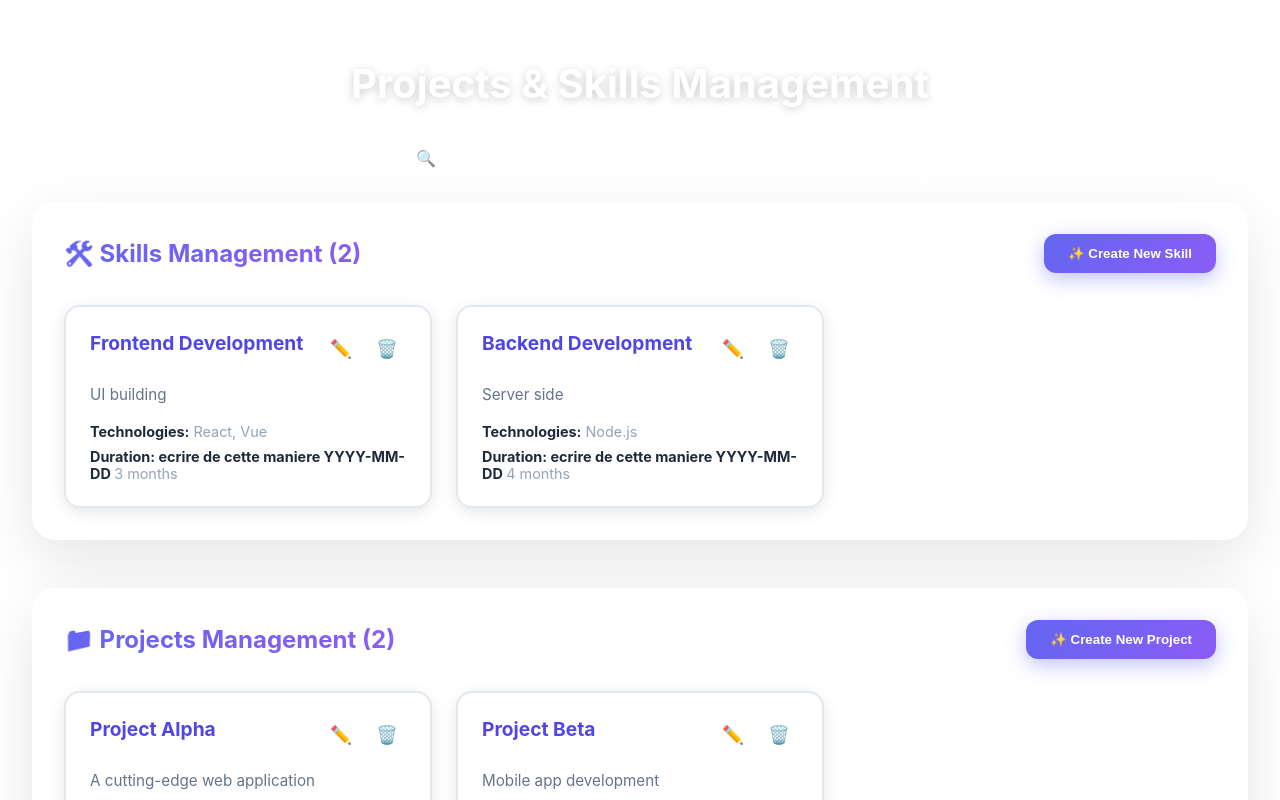
Projects Component › filtre par recherche
Expected: the heading "Project Alpha" is shown, x1=90 y1=717 x2=216 y2=741
Expected: the heading "Frontend Development" is shown, x1=90 y1=331 x2=306 y2=355
In the field with placeholder "🔍 Search projects or skills...": (666, 159) x1=390 y1=132 x2=942 y2=186, type "React"
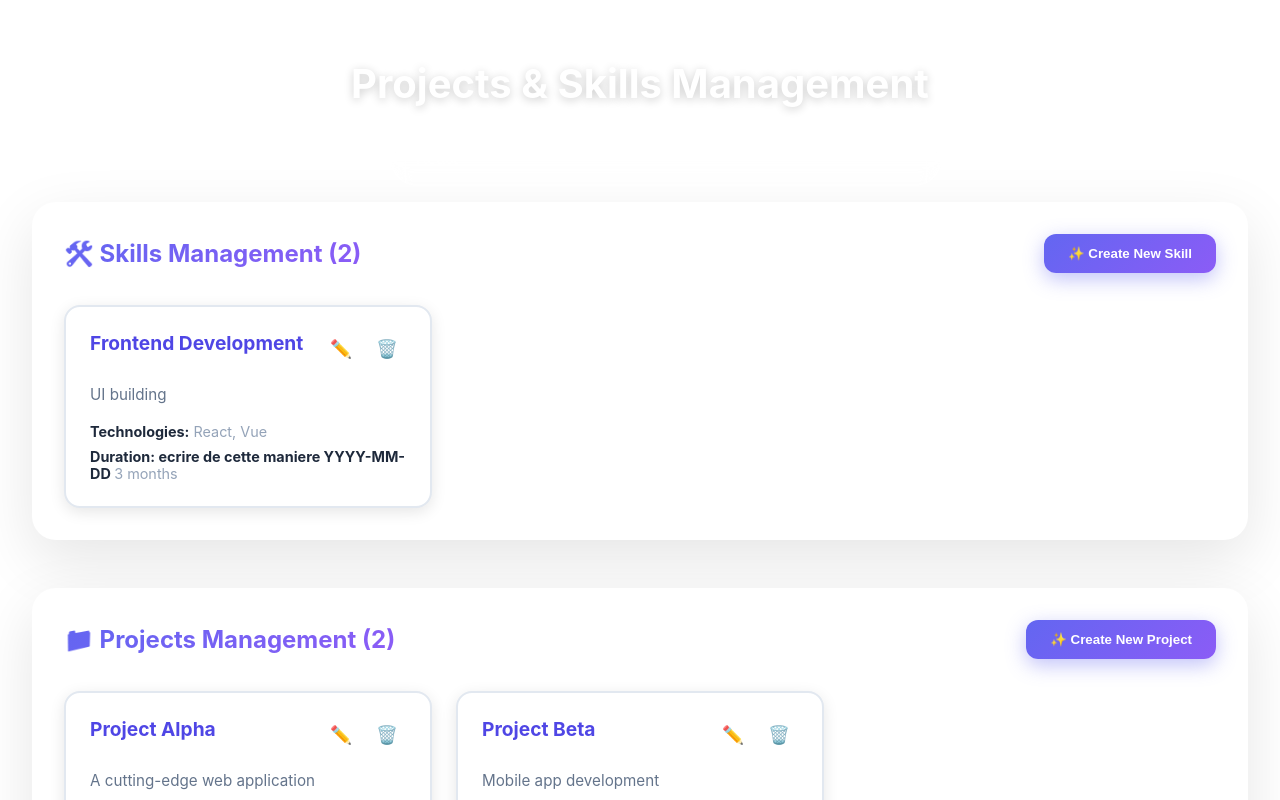
Result: the heading "Backend Development" is gone
